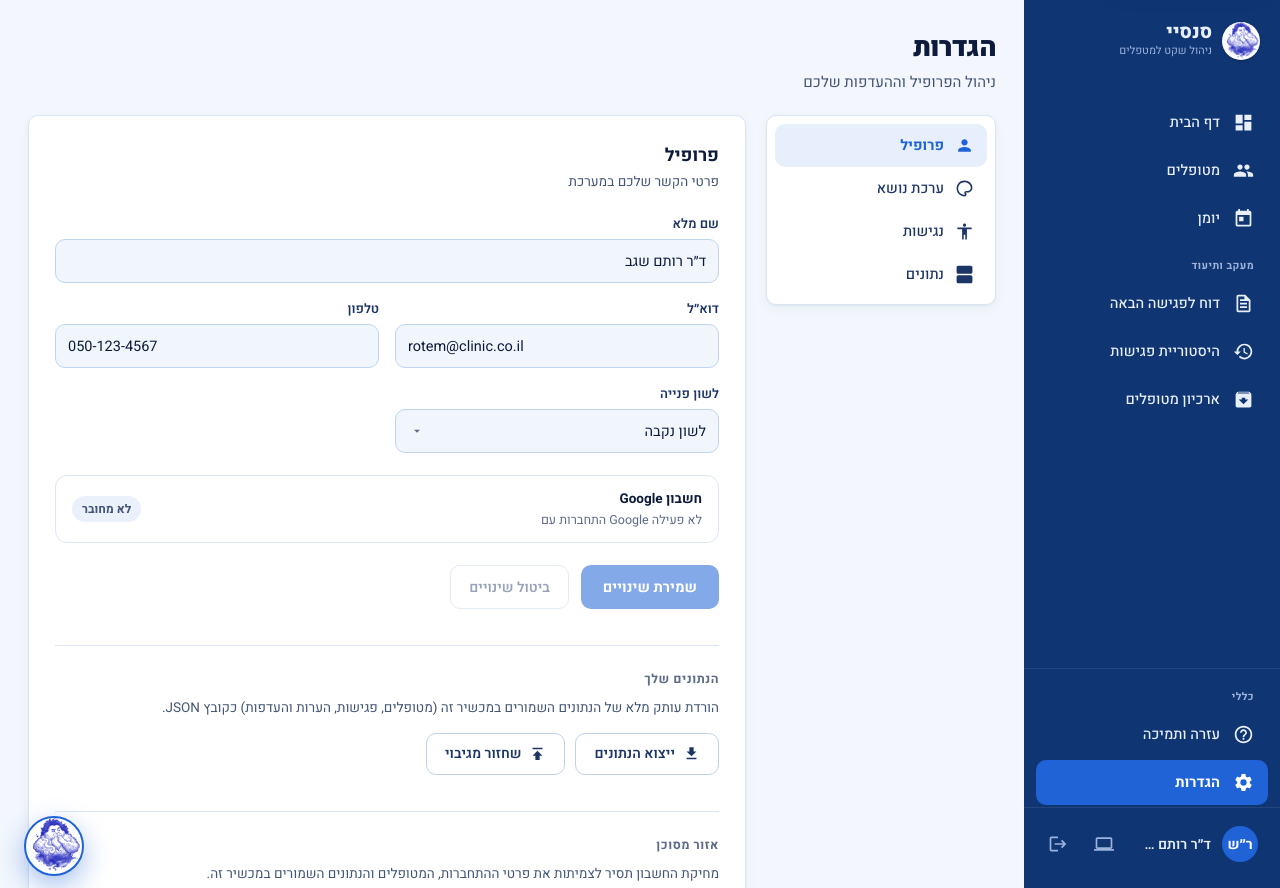
Test case: settings — profile phone validation › blocks saving an invalid phone and shows an error
Replace the text in the field named "טלפון" with "abc123" at (217, 346), box [55, 324, 379, 368]
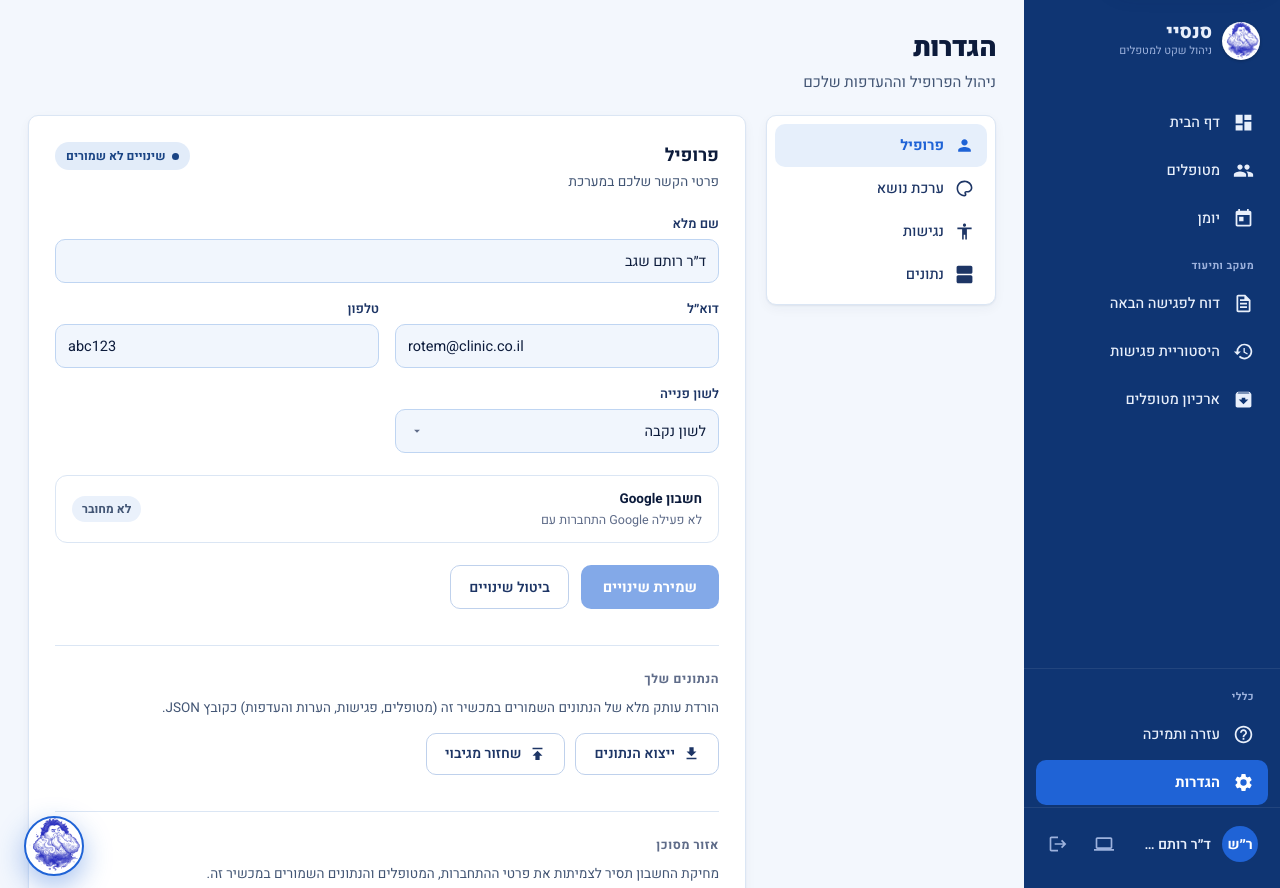
Click the button "שמירת שינויים".
click(650, 587)  # box [581, 565, 719, 609]
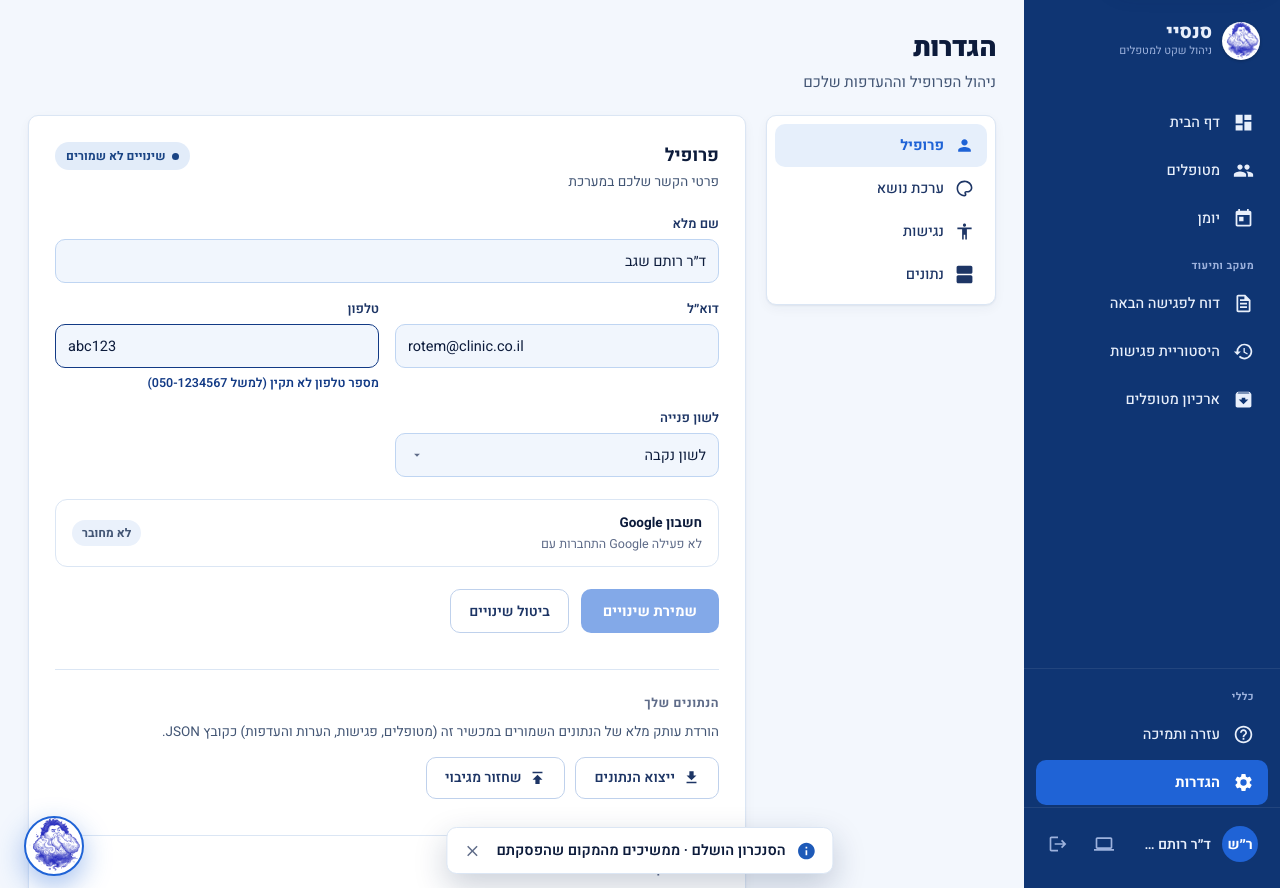
Now the text "מספר טלפון לא תקין" is shown, box [148, 374, 379, 392]
